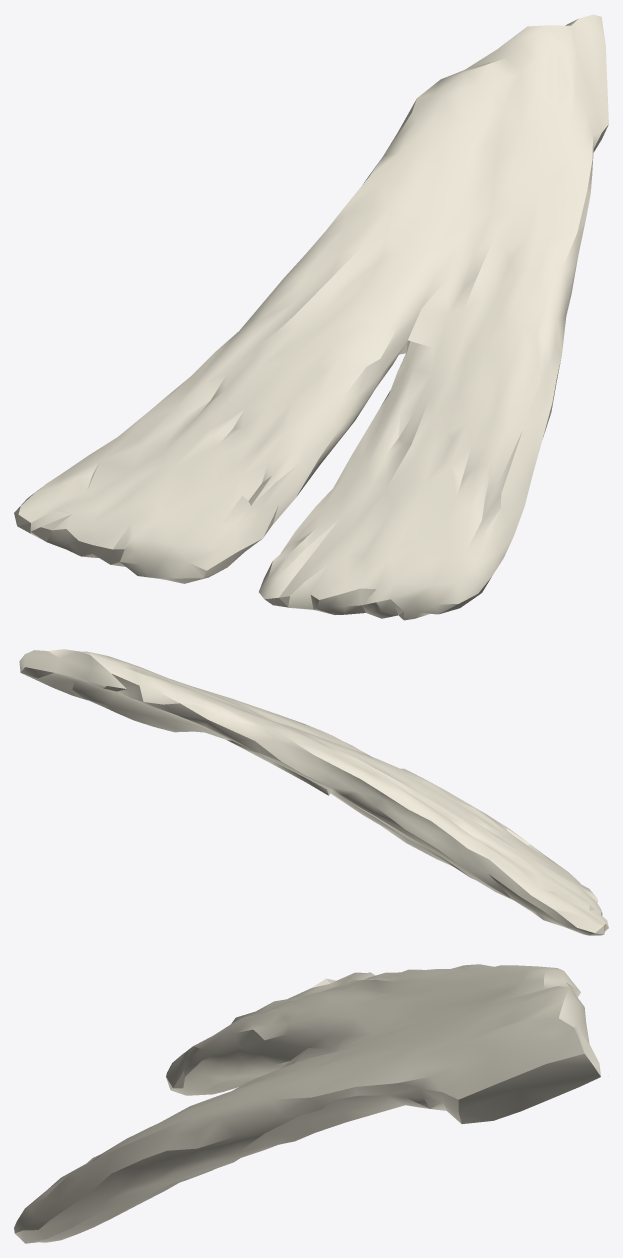
File: fma26003_mm1562.glb
3 renders of one model, top to bottom at view 1: azimuth 30°, elevation 25°; view 2: azimuth 150°, elevation 25°; view 3: azimuth 270°, elevation 25°, orthographic. The views are drawn at different scales.
Parts seen in each view (by area): view 1: FMA26003_MM1562; view 2: FMA26003_MM1562; view 3: FMA26003_MM1562.
Part boxes in pixels (x1,y1,x2,y2): FMA26003_MM1562: (14, 14, 608, 620); FMA26003_MM1562: (19, 649, 608, 935); FMA26003_MM1562: (14, 964, 600, 1243).
Size of the model in its own units: 0.0311 by 0.0157 by 0.0192.
